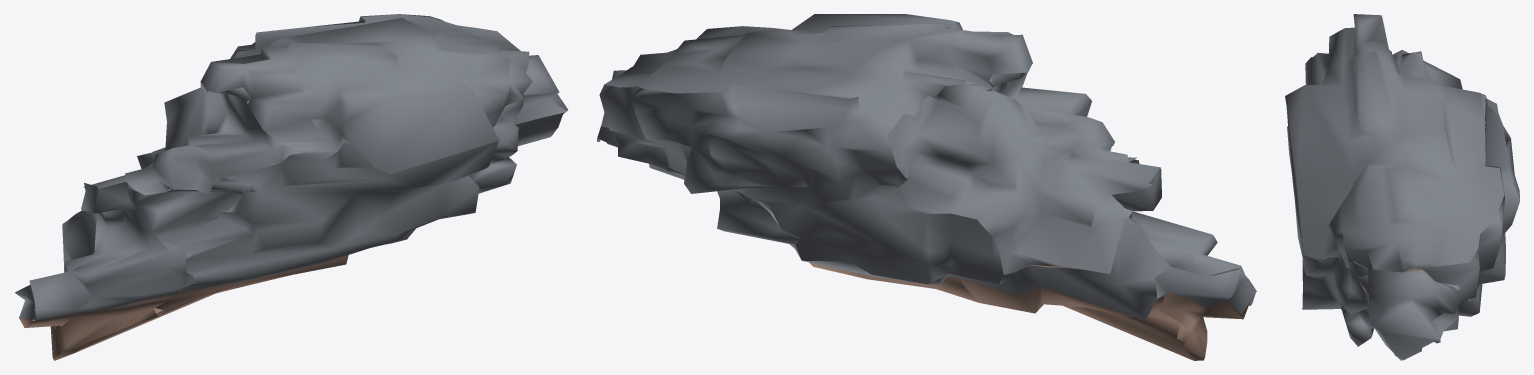
Rendered from steel_debris.glb.
3 views of the same model, side by side, from view 1: azimuth 30°, elevation 25°; view 2: azimuth 150°, elevation 25°; view 3: azimuth 270°, elevation 25° (orthographic). The views are drawn at different scales.
Visible parts, largest first — view 1: steel_debris_Asset; view 2: steel_debris_Asset; view 3: steel_debris_Asset.
Part boxes in pixels (x1=…): steel_debris_Asset: x1=15, y1=14, x2=567, y2=360; steel_debris_Asset: x1=597, y1=14, x2=1256, y2=360; steel_debris_Asset: x1=1285, y1=14, x2=1519, y2=360.
Size of the model in its own units: 5.2 by 2.28 by 1.87.
